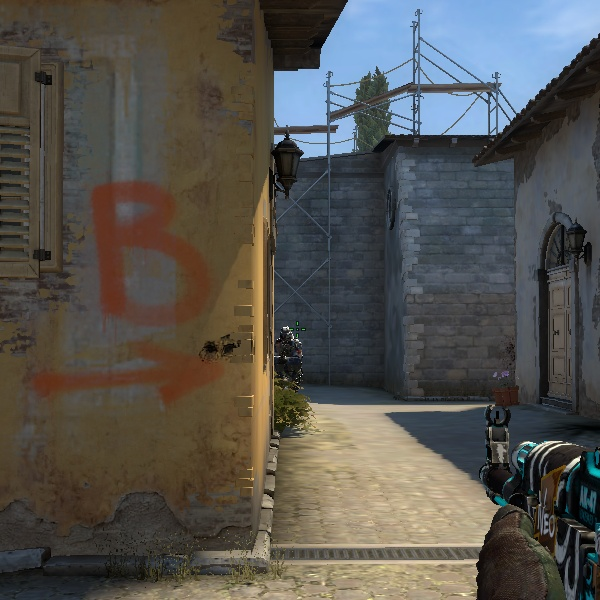ct_body: (270, 319, 316, 436)
t_body: (270, 324, 315, 432)
